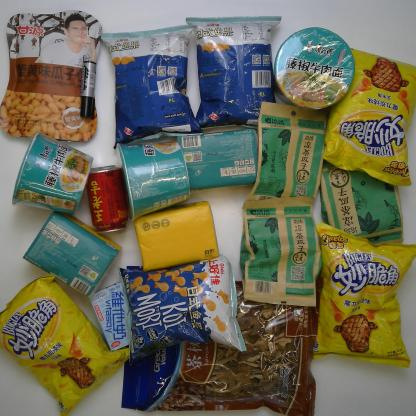Dried Food: (120, 283, 318, 412), (311, 145, 405, 249), (245, 97, 327, 211), (240, 194, 317, 311)
Dried Fruit: (0, 15, 102, 146)
Drink: (84, 164, 132, 233)
Instant Noodles: (13, 130, 104, 218), (272, 21, 356, 108), (117, 135, 190, 212)
Milk: (85, 282, 139, 352)
Puffed Food: (0, 272, 131, 408), (317, 37, 414, 186), (110, 254, 252, 355), (310, 227, 412, 364), (105, 20, 202, 145), (186, 12, 286, 133)
Stationery: (75, 50, 101, 121)
Tissue: (171, 116, 270, 198), (23, 215, 121, 297), (134, 196, 221, 272)
